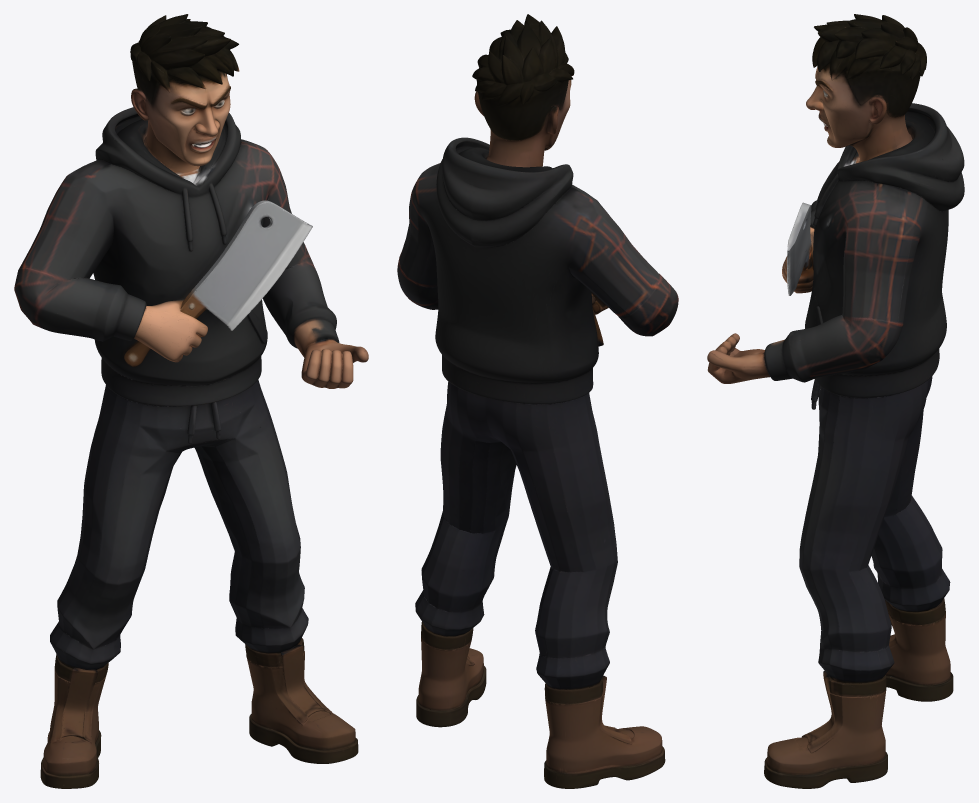
The model's file is invader.glb.
3 views of the same model, side by side, from view 1: azimuth 30°, elevation 25°; view 2: azimuth 150°, elevation 25°; view 3: azimuth 270°, elevation 25° (orthographic). The views are drawn at different scales.
Parts seen in each view (by area): view 1: node_0; view 2: node_0; view 3: node_0.
Boxes of the visible parts, bbox=[...] form: node_0: bbox=[14, 14, 368, 788]; node_0: bbox=[397, 14, 678, 788]; node_0: bbox=[707, 14, 964, 788].
Bounding box in the file's own units: 0.4568 × 1.11 × 0.3651.
1 material, 1 textured.
